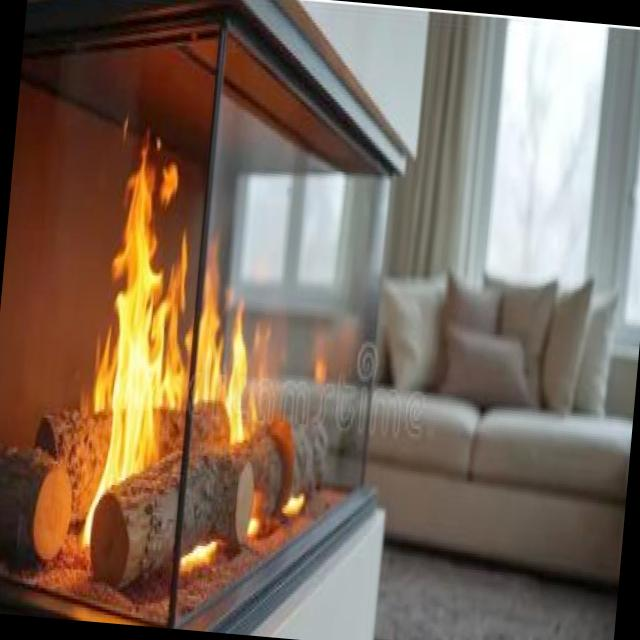Fire_Save: (69, 119, 334, 596)
